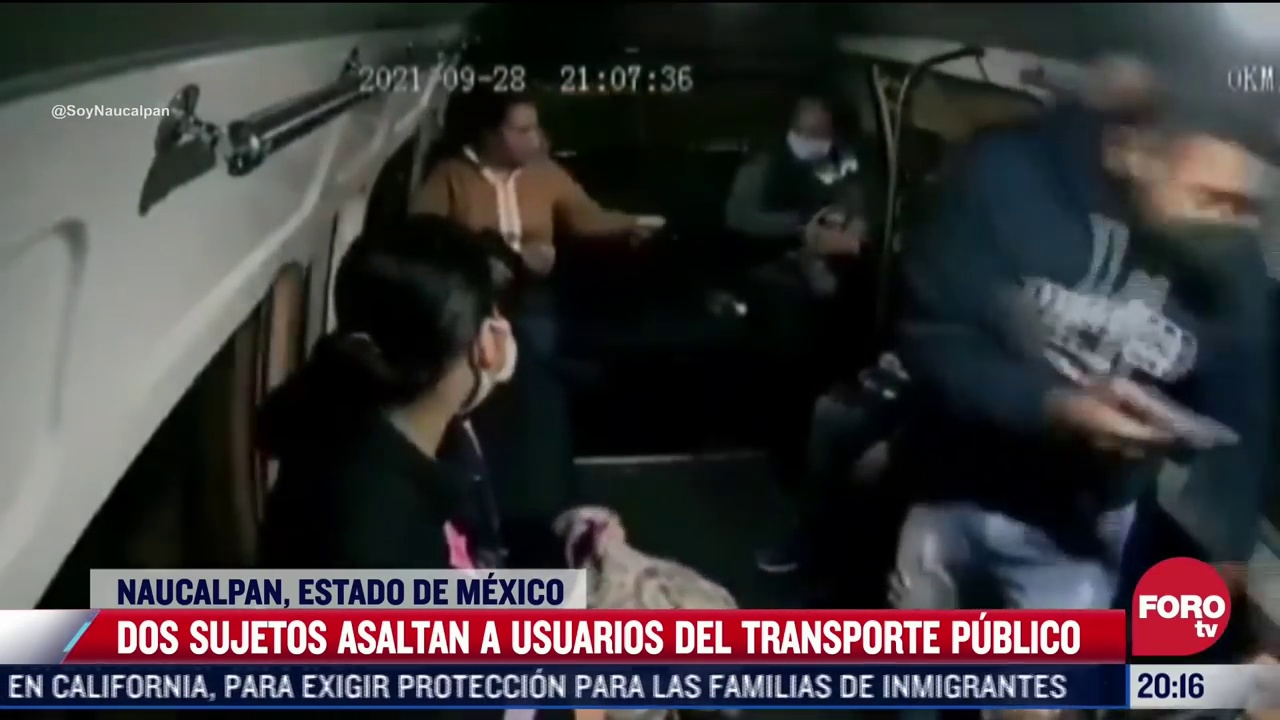pistol: (1104, 376, 1243, 463)
